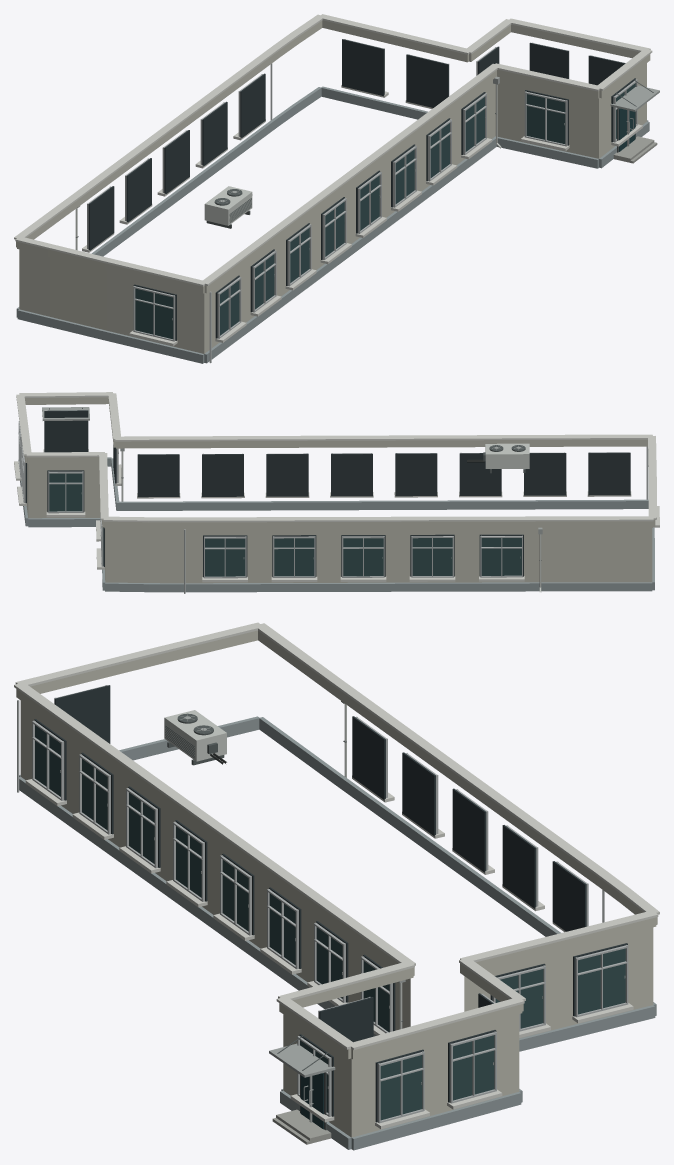
Rendered from osm_way_223859807.glb.
3 renders of one model, top to bottom at view 1: azimuth 30°, elevation 25°; view 2: azimuth 150°, elevation 25°; view 3: azimuth 270°, elevation 25°, orthographic. The views are drawn at different scales.
Visible parts, largest first — view 1: Architecture | 门卫, Windows and facade details | 门卫, Roof services | 门卫, EXTERIOR::osm_way_223859807::inferred entry doors canopy and, EXTERIOR::osm_way_223859807::rainwater and roof service deta; view 2: Architecture | 门卫, Windows and facade details | 门卫, Roof services | 门卫, EXTERIOR::osm_way_223859807::rainwater and roof service deta, EXTERIOR::osm_way_223859807::inferred entry doors canopy and; view 3: Architecture | 门卫, Windows and facade details | 门卫, Roof services | 门卫, EXTERIOR::osm_way_223859807::inferred entry doors canopy and, EXTERIOR::osm_way_223859807::rainwater and roof service deta.
Part boxes in pixels (x1,y1,x2,y2): Architecture | 门卫: [16, 20, 650, 363]; Windows and facade details | 门卫: [82, 39, 642, 363]; Roof services | 门卫: [14, 14, 652, 286]; EXTERIOR::osm_way_223859807::inferred entry doors canopy and: [610, 79, 659, 163]; EXTERIOR::osm_way_223859807::rainwater and roof service deta: [75, 76, 501, 250]; Architecture | 门卫: [18, 397, 655, 592]; Windows and facade details | 门卫: [14, 410, 659, 593]; Roof services | 门卫: [16, 392, 656, 522]; EXTERIOR::osm_way_223859807::rainwater and roof service deta: [120, 443, 542, 592]; EXTERIOR::osm_way_223859807::inferred entry doors canopy and: [42, 407, 89, 420]; Architecture | 门卫: [16, 630, 657, 1150]; Windows and facade details | 门卫: [17, 685, 633, 1129]; Roof services | 门卫: [14, 622, 659, 1050]; EXTERIOR::osm_way_223859807::inferred entry doors canopy and: [269, 1035, 335, 1144]; EXTERIOR::osm_way_223859807::rainwater and roof service deta: [164, 701, 405, 1029].
Size of the model in its own units: 39.77 by 5.38 by 25.51.
